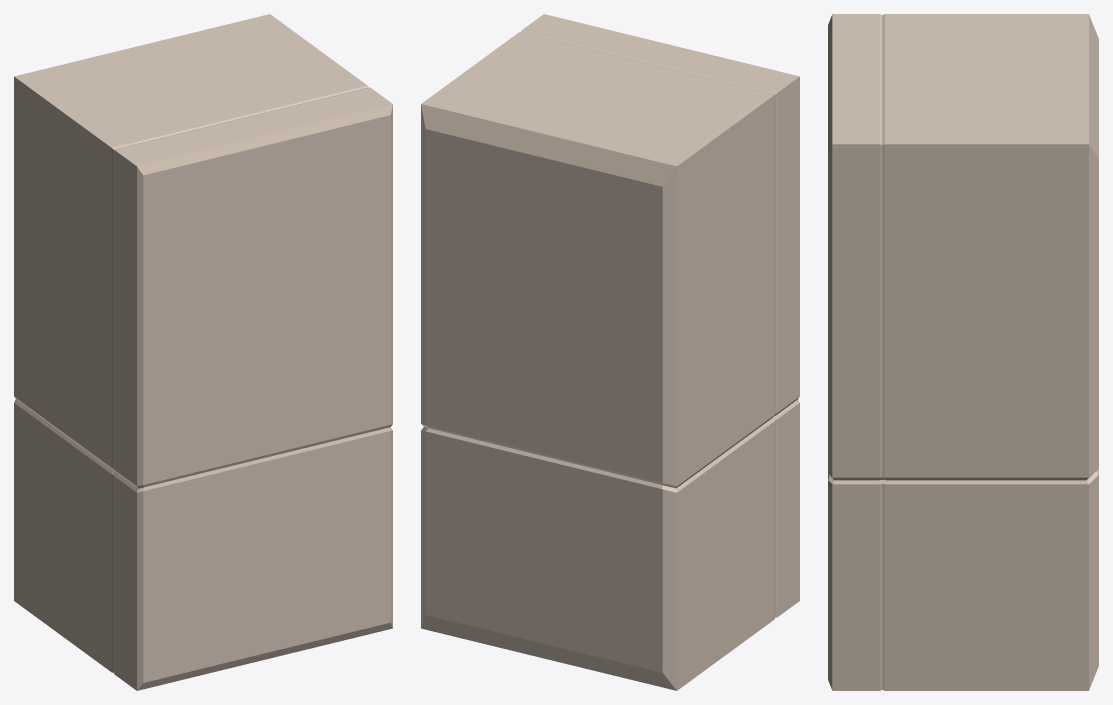
Rendered from refrigerator.fbx.
3 views of the same model, side by side, from view 1: azimuth 30°, elevation 25°; view 2: azimuth 150°, elevation 25°; view 3: azimuth 270°, elevation 25° (orthographic). The views are drawn at different scales.
Visible parts, largest first — view 1: Cube; view 2: Cube; view 3: Cube.
Boxes of the visible parts, x1,y1,x2,y2 form: Cube: (14, 14, 392, 690); Cube: (421, 14, 799, 690); Cube: (828, 14, 1098, 690).
Size of the model in its own units: 99.56 by 195 by 87.5.
